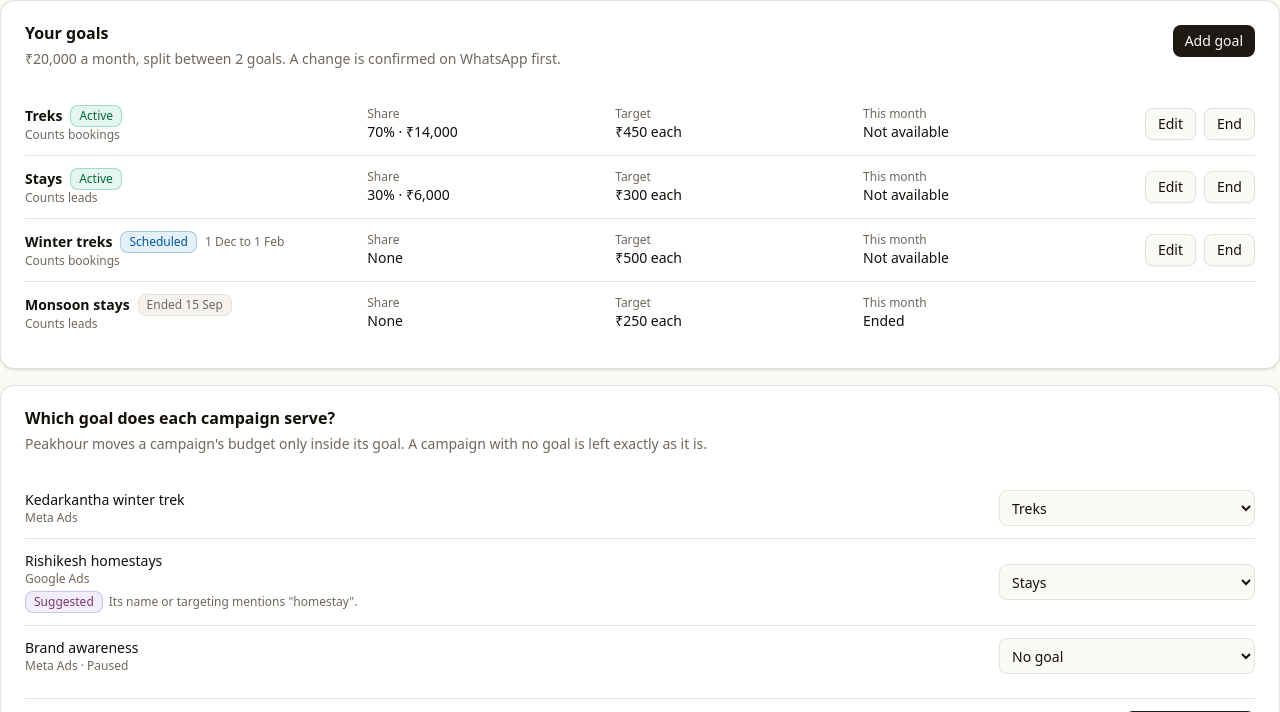
only an editor can describe a goal › a viewer sees the button off, the reason beside it, and no price is read
The width and height of the screenshot is (1280, 712).
Click the button "Add goal": x=1214, y=41 x1=1173 y1=25 x2=1255 y2=57
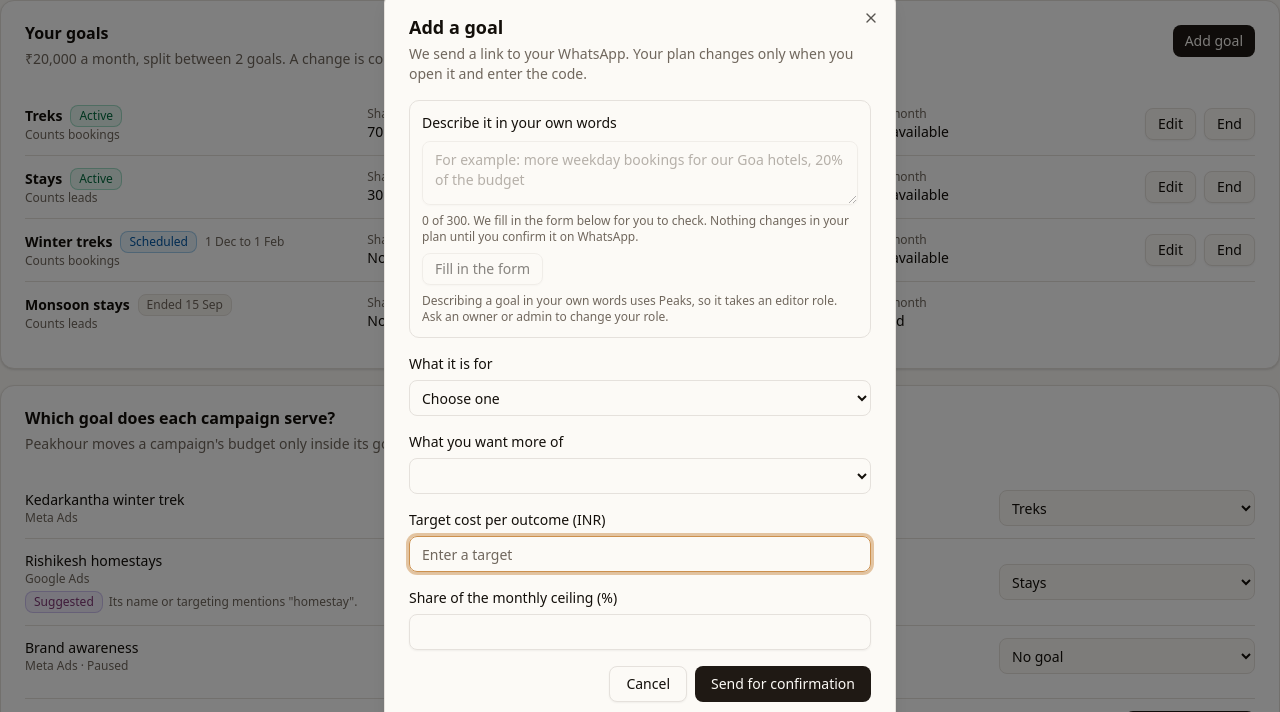
Check: the button "Fill in the form" is disabled, box x1=422 y1=253 x2=543 y2=285
Check: the text "Describing a goal in your own words uses Peaks, so it takes an editor role. Ask an owner or admin to change your role." is shown, box x1=422 y1=292 x2=837 y2=325
Check: the text box named "Describe the goal" is disabled, box x1=422 y1=141 x2=858 y2=205
